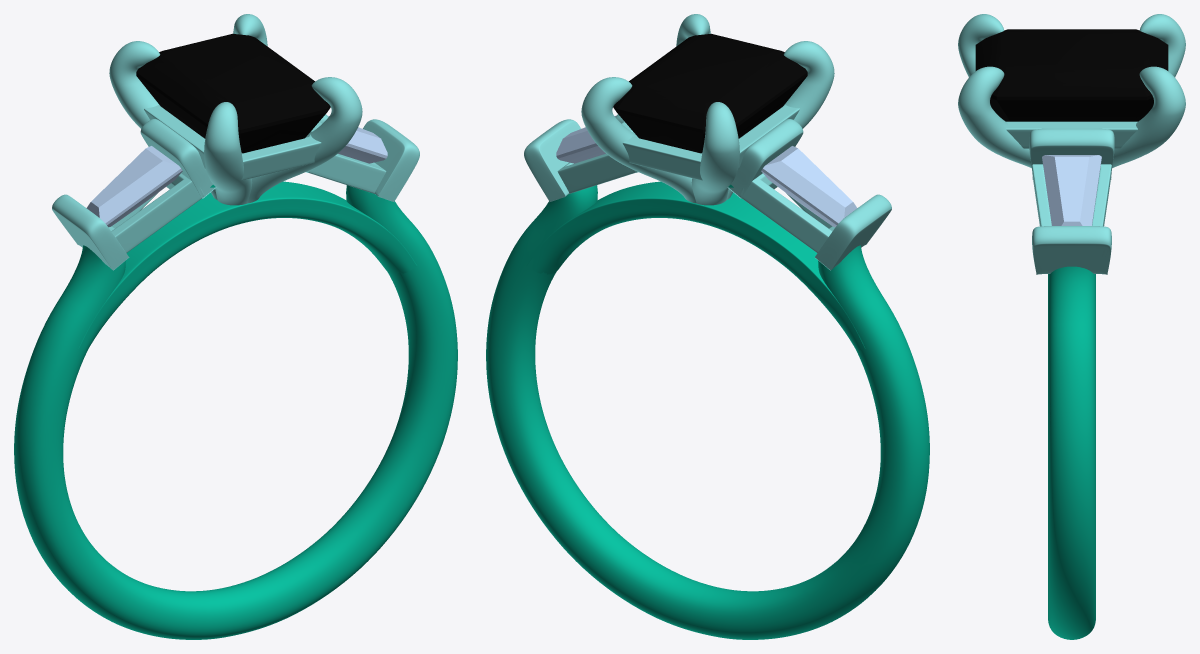
The picture shows the model from 3 angles, left to right: view 1: azimuth 30°, elevation 25°; view 2: azimuth 150°, elevation 25°; view 3: azimuth 270°, elevation 25°; orthographic projection.
Parts seen in each view (by area): view 1: B580-01A-A IJewel.3dm, JewelCAD (×3); view 2: B580-01A-A IJewel.3dm, JewelCAD (×3); view 3: B580-01A-A IJewel.3dm, JewelCAD (×2).
Boxes of the visible parts, x1=… form: B580-01A-A IJewel.3dm: x1=14, y1=14, x2=457, y2=639; JewelCAD (×3): x1=86, y1=33, x2=387, y2=227; B580-01A-A IJewel.3dm: x1=486, y1=14, x2=929, y2=639; JewelCAD (×3): x1=556, y1=33, x2=857, y2=227; B580-01A-A IJewel.3dm: x1=958, y1=14, x2=1185, y2=639; JewelCAD (×2): x1=975, y1=29, x2=1168, y2=225.
Size of the model in its own units: 2.4 by 3.01 by 1.08.
